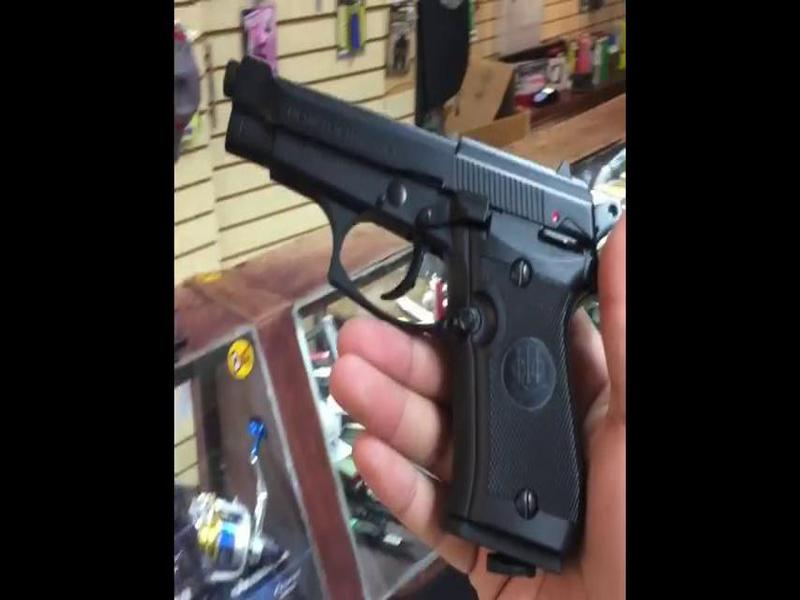Pistola: (209, 48, 609, 569)
